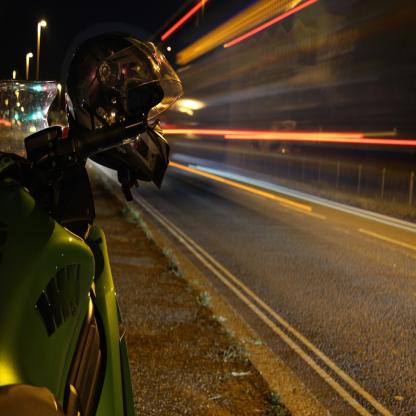Helmet: (68, 35, 187, 203)
